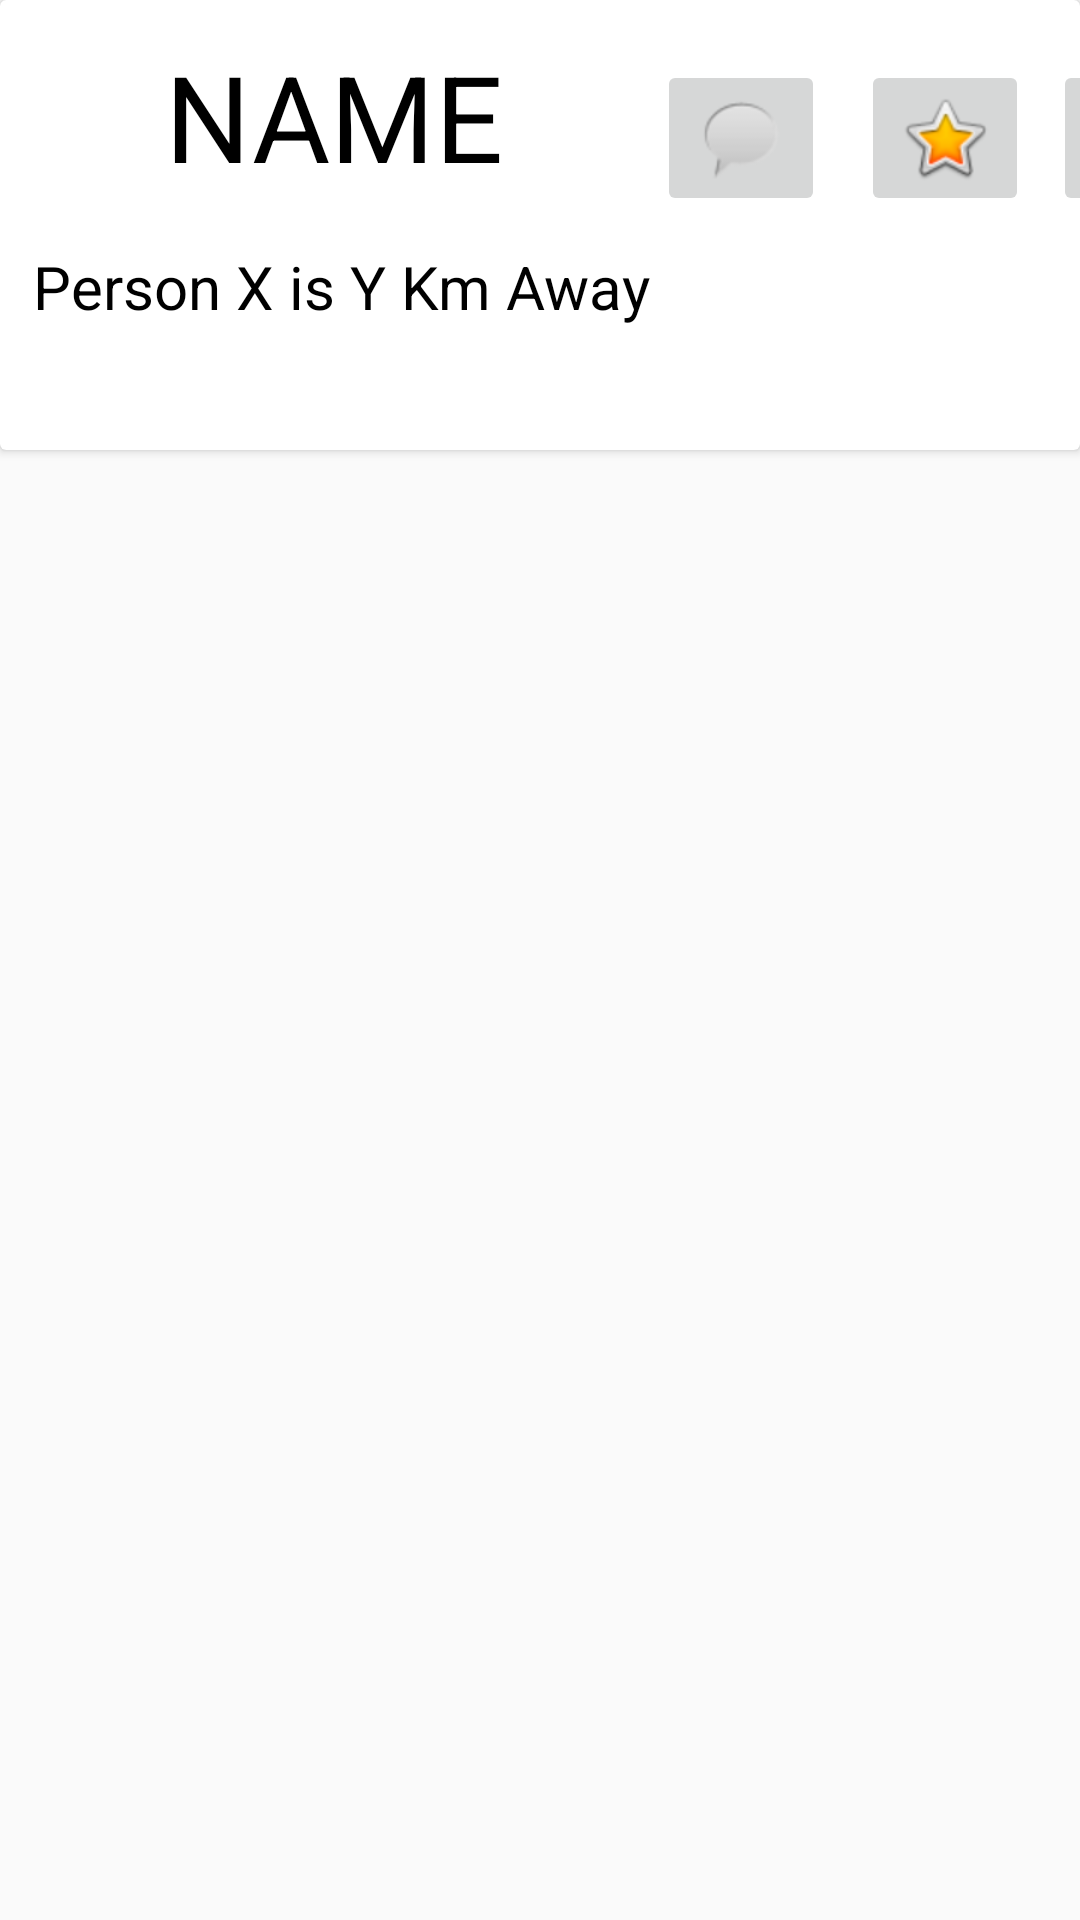

Named icons in this screenshot (1080px x 1920px) and their centers, (x=x, y=y):
sym action chat: (x=741, y=138)
